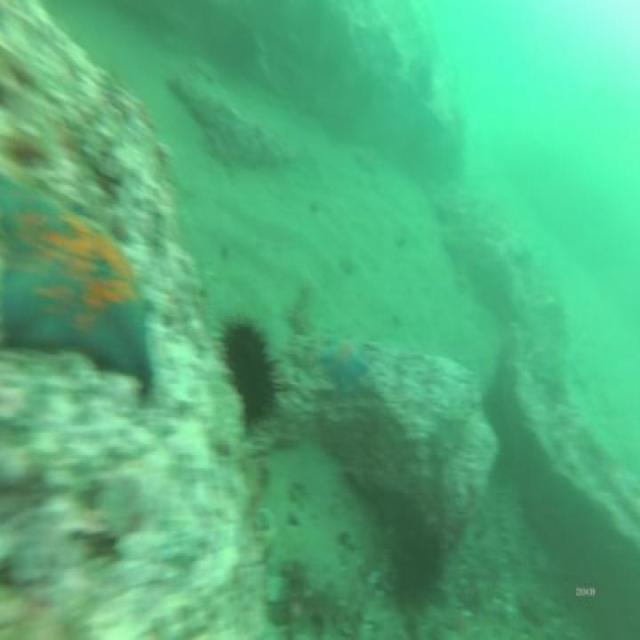echinus: (224, 321, 276, 419), (389, 516, 439, 600)
starfish: (2, 167, 153, 392), (318, 335, 367, 387)
